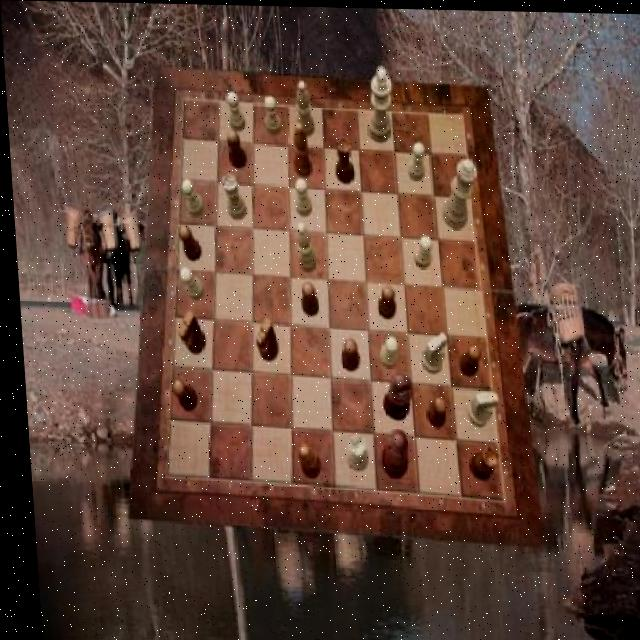bishop: (290, 120, 310, 177), (290, 443, 315, 478)
black-bishop: (375, 372, 408, 420)
black-king: (171, 310, 201, 355), (249, 316, 274, 360)
black-knight: (174, 224, 198, 261), (166, 379, 192, 412), (225, 130, 246, 169), (452, 343, 476, 376), (420, 395, 442, 428), (372, 285, 392, 319), (295, 280, 314, 315), (335, 336, 354, 370)
black-pawn: (373, 428, 405, 479)
black-queen: (461, 444, 494, 479), (331, 136, 352, 182)
black-rook: (292, 79, 314, 137), (291, 220, 314, 272)
white-bishop: (364, 65, 395, 141)
white-king: (414, 330, 444, 372), (460, 389, 494, 426)
white-knight: (177, 178, 202, 216), (175, 266, 200, 300), (225, 91, 244, 132), (405, 141, 424, 181), (291, 177, 310, 216), (261, 95, 279, 136), (408, 234, 429, 269), (374, 335, 394, 368)
white-pawn: (437, 156, 478, 228)
white-queen: (218, 174, 244, 220), (339, 434, 363, 470)
